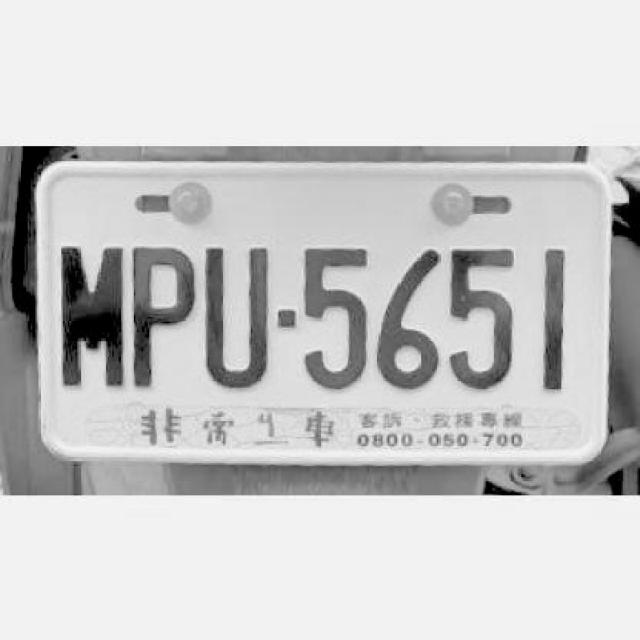-: (277, 306, 297, 331)
1: (536, 244, 570, 394)
5: (300, 243, 369, 392), (446, 248, 517, 392)
6: (371, 246, 442, 392)
M: (57, 245, 125, 388)
P: (130, 246, 196, 389)
U: (202, 243, 269, 391)
